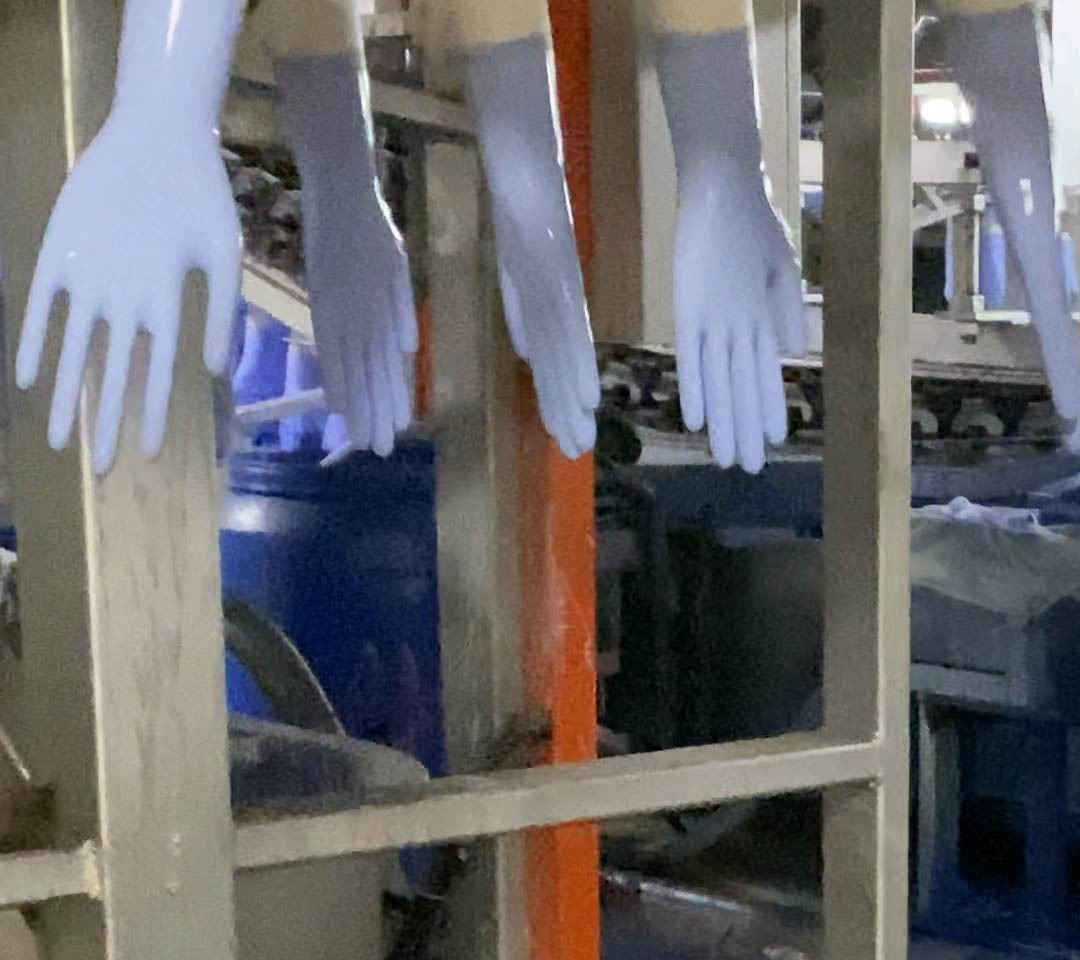glove: (12, 1, 246, 471), (645, 21, 813, 475), (456, 29, 603, 461), (271, 45, 423, 455), (939, 9, 1080, 444)
